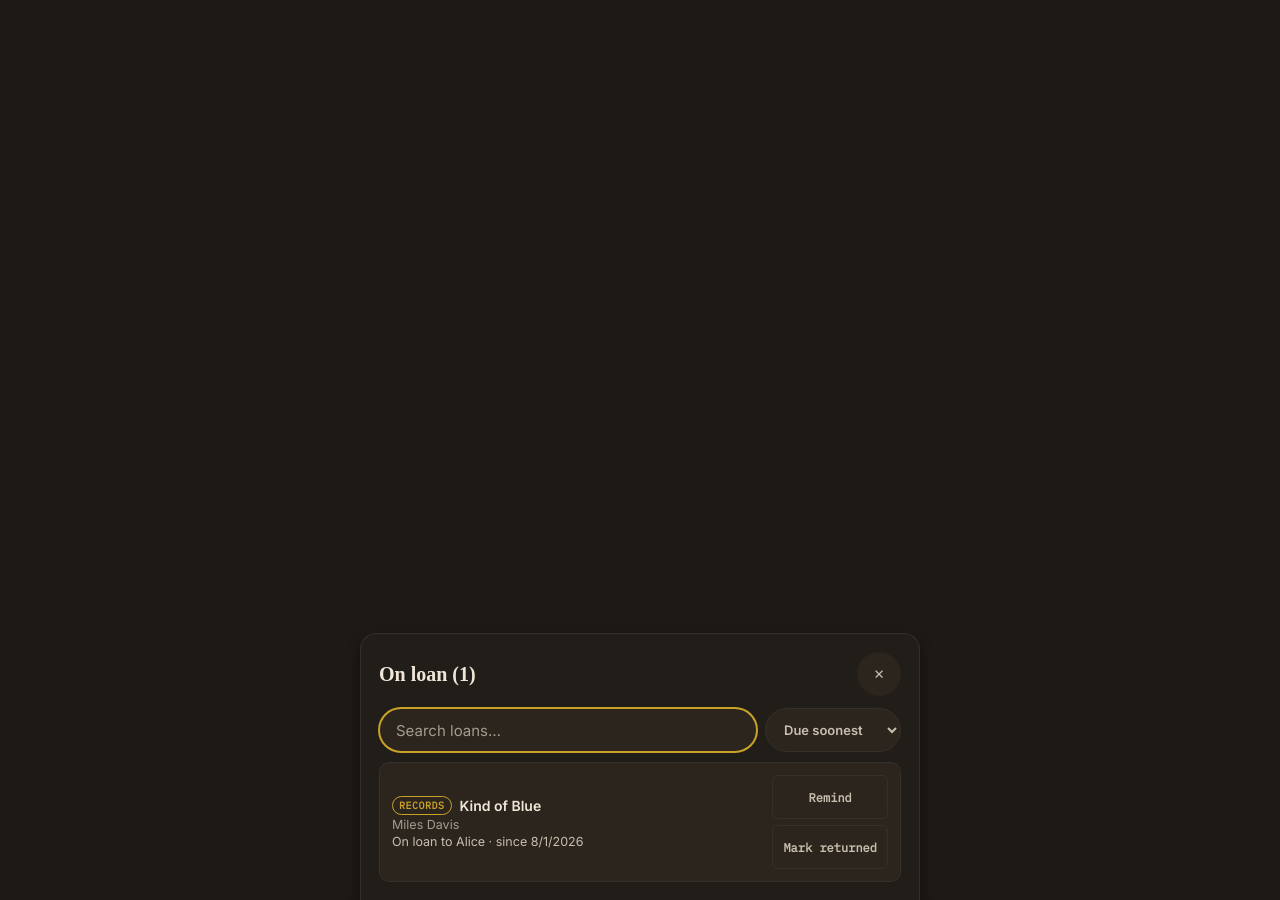
Test: LoansDashboard (W7) › keeps the row and shows an error notice when the return fails
Expected: the text "Kind of Blue" is shown, [460,796,541,814]
Click the button "Mark returned".
click(830, 847)  # box [772,825,888,869]
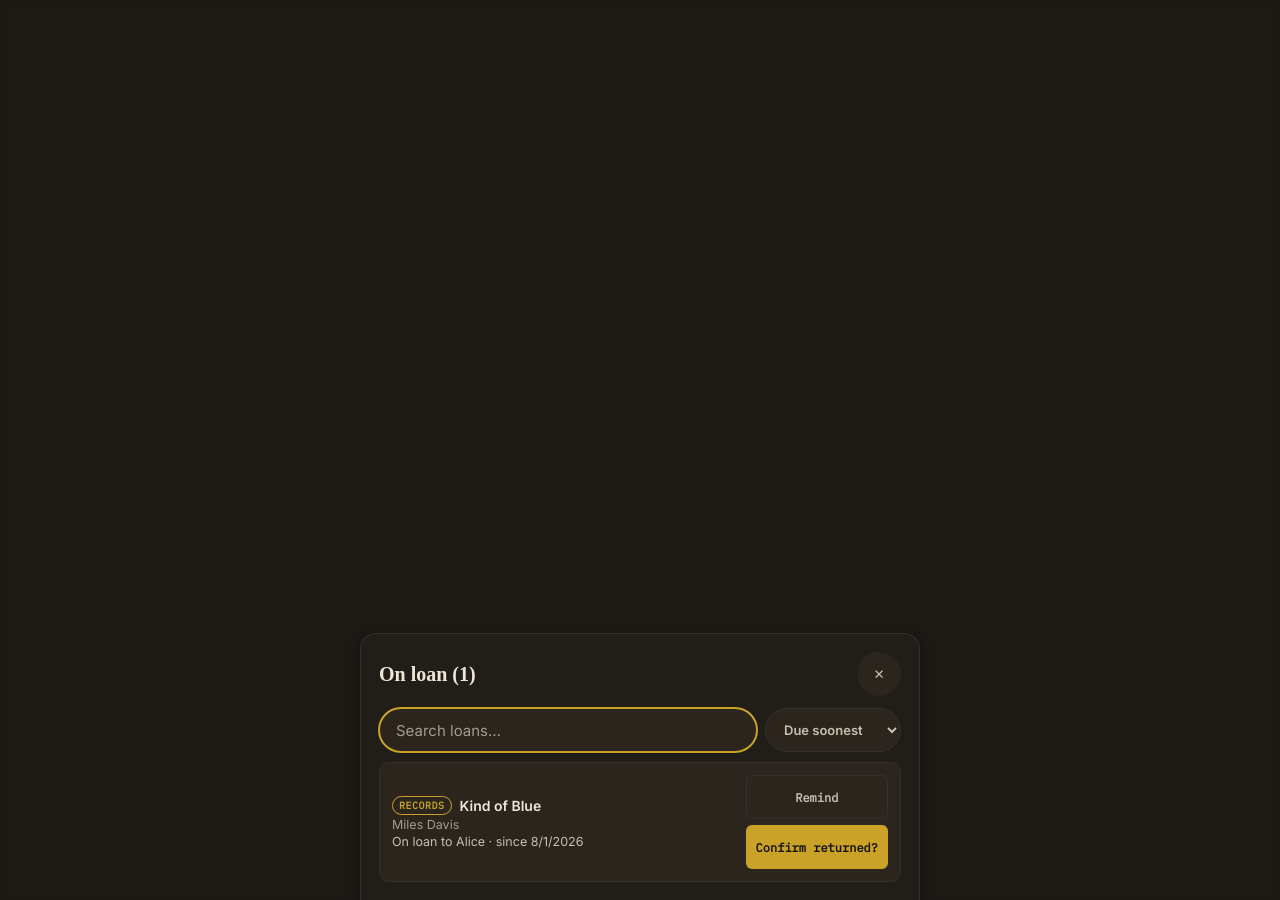
Click the button "Confirm returned?".
click(817, 847)  # box [746,825,888,869]
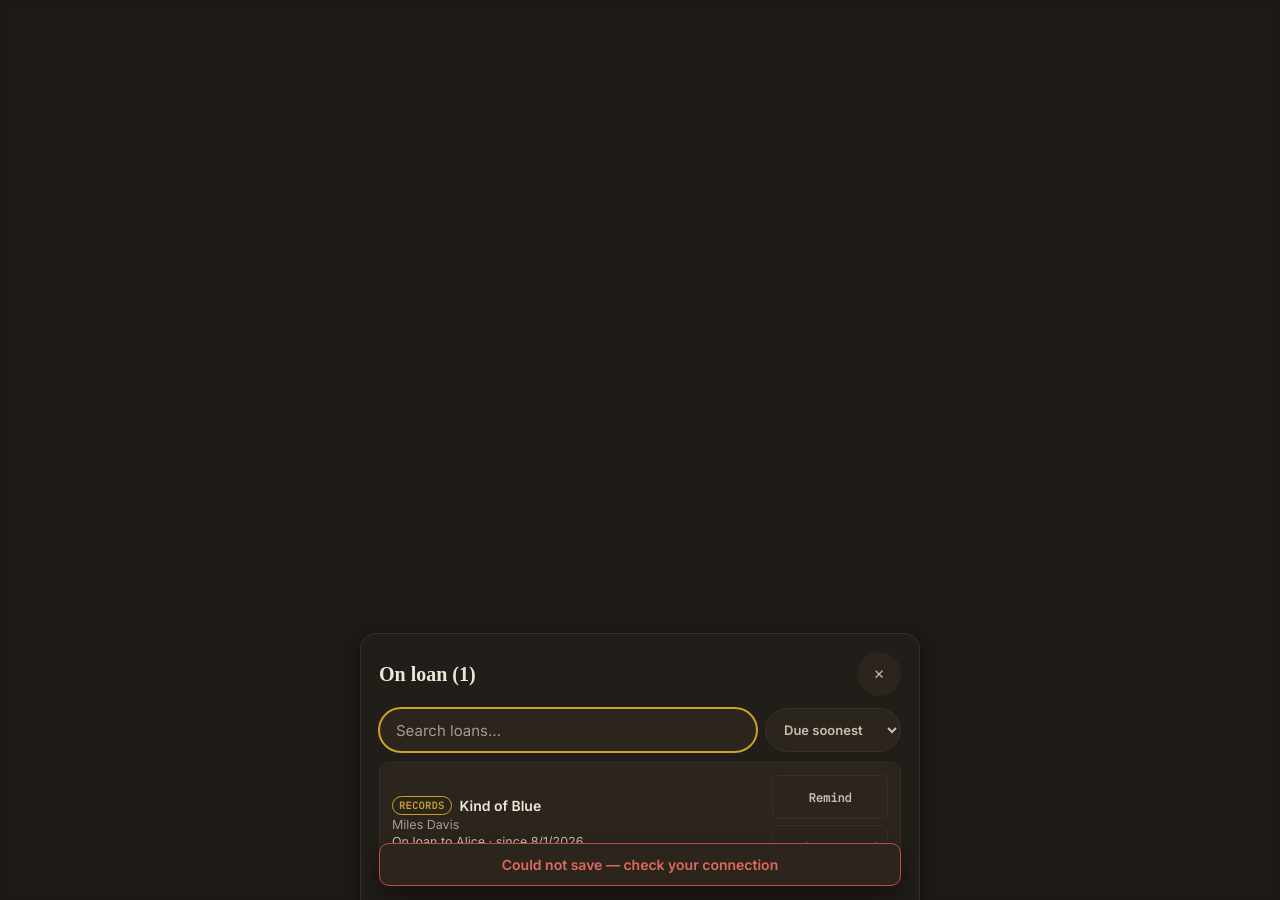
Expected: the number of list items with class "loan-row" is 1, [379,762,901,882]
Expected: the text "Could not save — check your connection" is shown, [379,843,901,886]
Expected: the button "Mark returned" is shown, [772,825,888,869]
